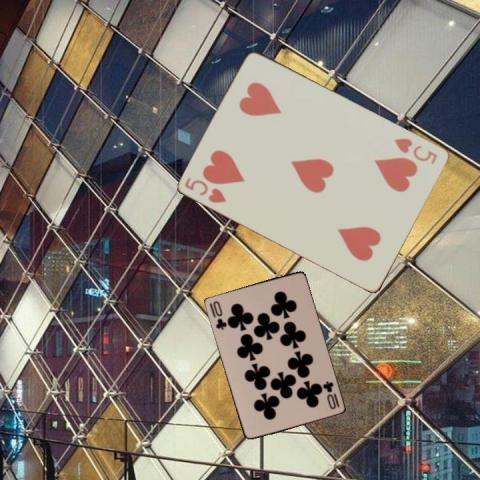10c: (206, 298, 228, 331), (319, 378, 341, 411)
5h: (391, 135, 440, 165), (182, 174, 229, 205)
